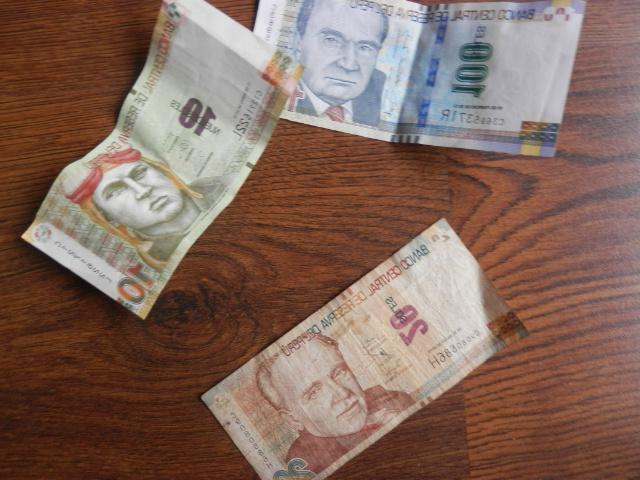B10: (22, 1, 305, 316)
B100: (289, 1, 586, 157)
B20: (201, 219, 530, 480)
